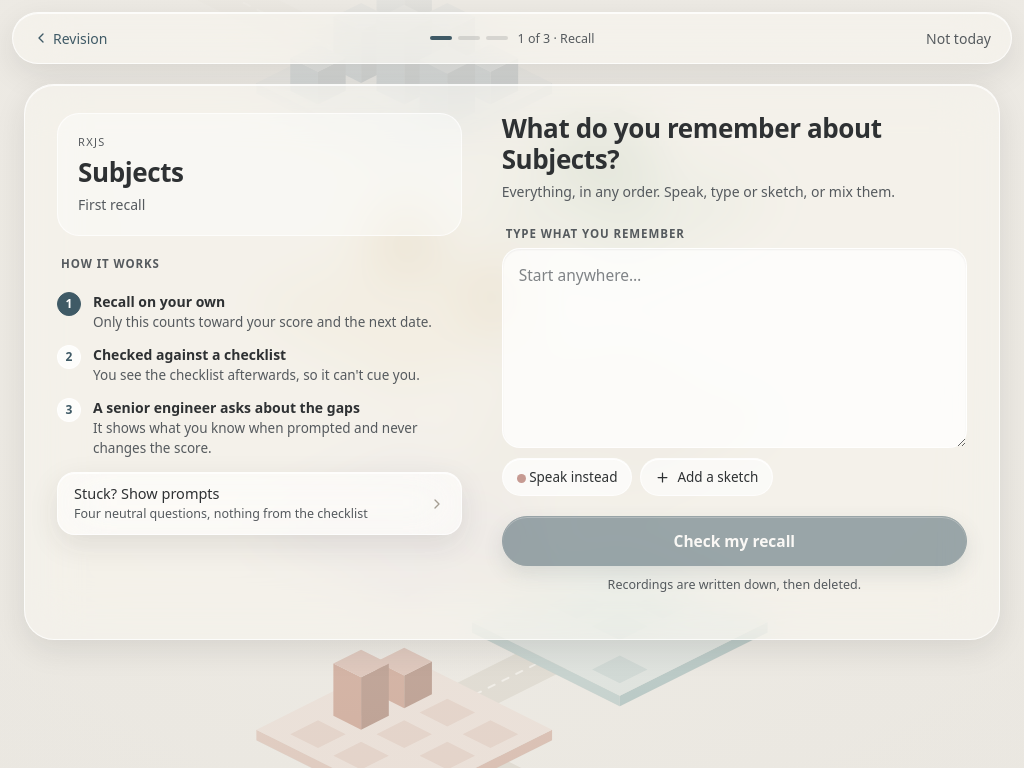
recall page › starts as a blank slate: the sub-topic, how it works and neutral prompts on request, never the checklist
Expected: the heading "What do you remember about Subjects?" is shown, x1=502 y1=110 x2=882 y2=177
Expected: the text "1 of 3 · Recall" is shown, x1=518 y1=30 x2=594 y2=46
Click the button "Stuck? Show prompts" at (259, 504), box x1=58 y1=473 x2=461 y2=534
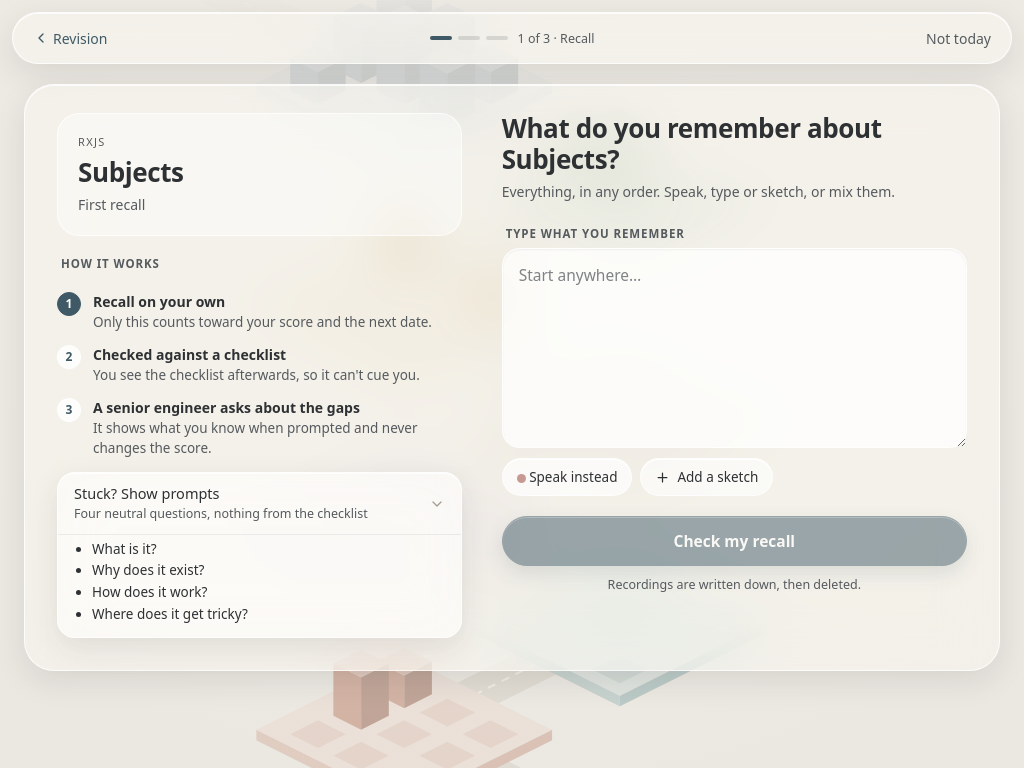
Expected: the button "Check my recall" is disabled, x1=502 y1=516 x2=967 y2=566
Expected: the list item "Where does it get tricky?" is shown, x1=92 y1=604 x2=248 y2=622
